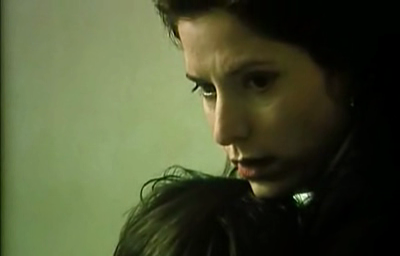cu: (1, 1, 400, 256)
face: (178, 13, 331, 199)
person: (152, 1, 400, 256)
